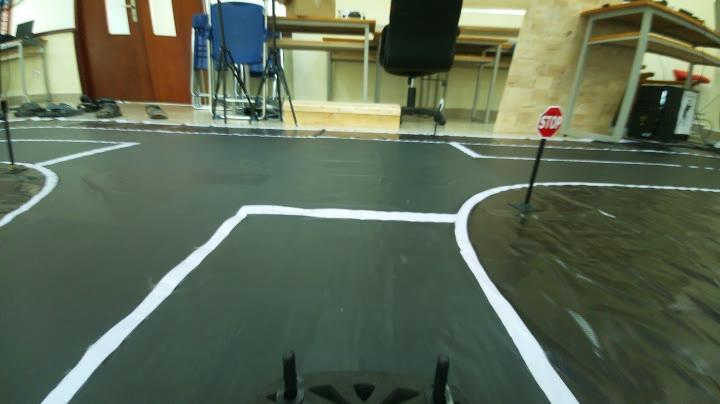stop: (534, 103, 570, 144)
